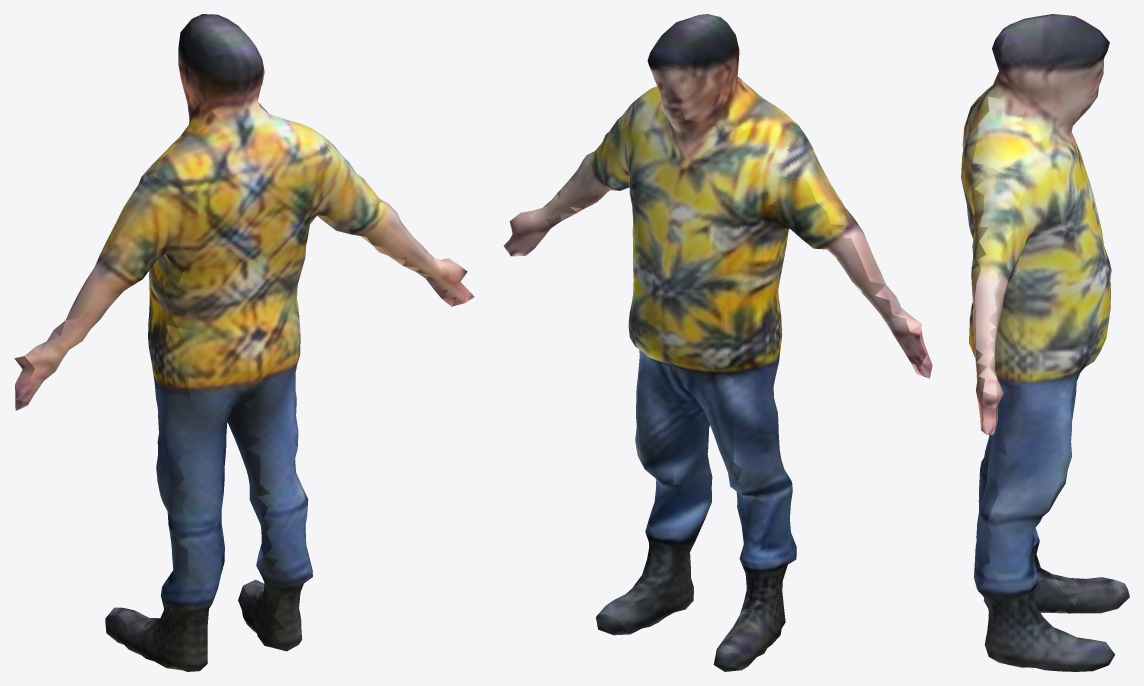
3 views of the same model, side by side, from view 1: azimuth 30°, elevation 25°; view 2: azimuth 150°, elevation 25°; view 3: azimuth 270°, elevation 25° (orthographic).
Parts seen in each view (by area): view 1: world; view 2: world; view 3: world.
Boxes of the visible parts, bbox=[...] form: world: bbox=[14, 14, 474, 671]; world: bbox=[503, 14, 932, 671]; world: bbox=[961, 14, 1129, 671].
Bounding box in the file's own units: 0.7606 × 1.01 × 0.2478.
1 material, 1 textured.
